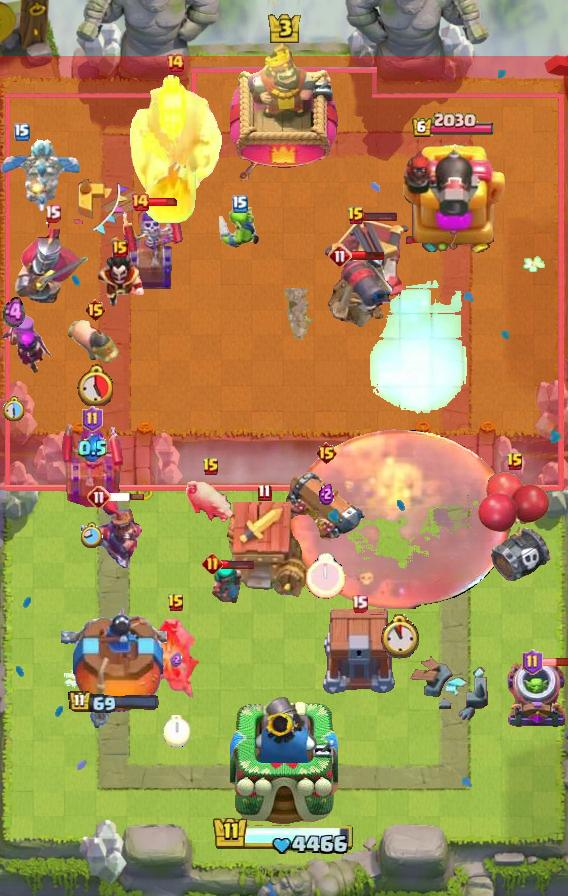battle-healer: (285, 468, 367, 552)
bomb: (320, 609, 398, 695)
cannoneer-tower: (136, 618, 216, 704)
clock: (212, 815, 356, 857)
electro-spirit: (78, 434, 106, 462), (3, 296, 25, 330), (319, 482, 334, 505), (170, 652, 182, 667)
elixir: (378, 613, 421, 658), (306, 553, 346, 599), (77, 364, 113, 406), (162, 715, 189, 747), (3, 396, 26, 422), (81, 522, 103, 549)
elixir-golem-big: (78, 499, 146, 573)
emote: (362, 210, 398, 222), (220, 558, 256, 570), (350, 250, 386, 261), (109, 492, 145, 502), (148, 197, 180, 207), (540, 657, 567, 667)
executioner: (68, 316, 122, 366)
fisherman: (282, 288, 318, 340)
giant: (185, 475, 237, 525)
giant-skeleton: (127, 73, 223, 201)
goblin-cage: (504, 660, 568, 730)
king-tower: (230, 43, 338, 181), (230, 692, 338, 826)
lava-pup: (324, 218, 412, 300)
lumberjack: (95, 256, 145, 308)
mega-knight: (366, 280, 469, 417)
mini-pekka: (0, 134, 84, 218)
phoenix-egg: (289, 429, 510, 609)
queen-tower: (61, 603, 167, 731)
rascal-girl: (0, 314, 54, 376)
royal-giant-evolution: (325, 257, 393, 327)
royal-recruit-evolution: (476, 469, 554, 585)
selected: (411, 112, 495, 140), (68, 689, 160, 714)
skeleton-king-bar: (122, 201, 184, 293), (61, 421, 123, 507)
sparky: (221, 501, 307, 599)
text: (328, 244, 352, 268), (87, 485, 111, 509), (84, 298, 107, 322), (315, 441, 338, 465), (82, 406, 103, 432), (522, 649, 543, 675), (201, 553, 222, 574), (165, 53, 185, 73), (130, 192, 150, 212), (347, 206, 365, 226), (506, 452, 524, 472), (202, 457, 220, 477), (167, 593, 185, 613), (351, 595, 369, 613), (43, 204, 60, 223), (14, 123, 30, 141), (232, 195, 248, 213), (112, 240, 128, 258), (257, 483, 272, 501)
tower-bar: (399, 138, 507, 256)
valkyrie: (141, 155, 201, 225)
wall-breaker-evolution: (13, 215, 91, 303)
witch: (209, 560, 245, 606)
zap: (216, 205, 264, 249)
